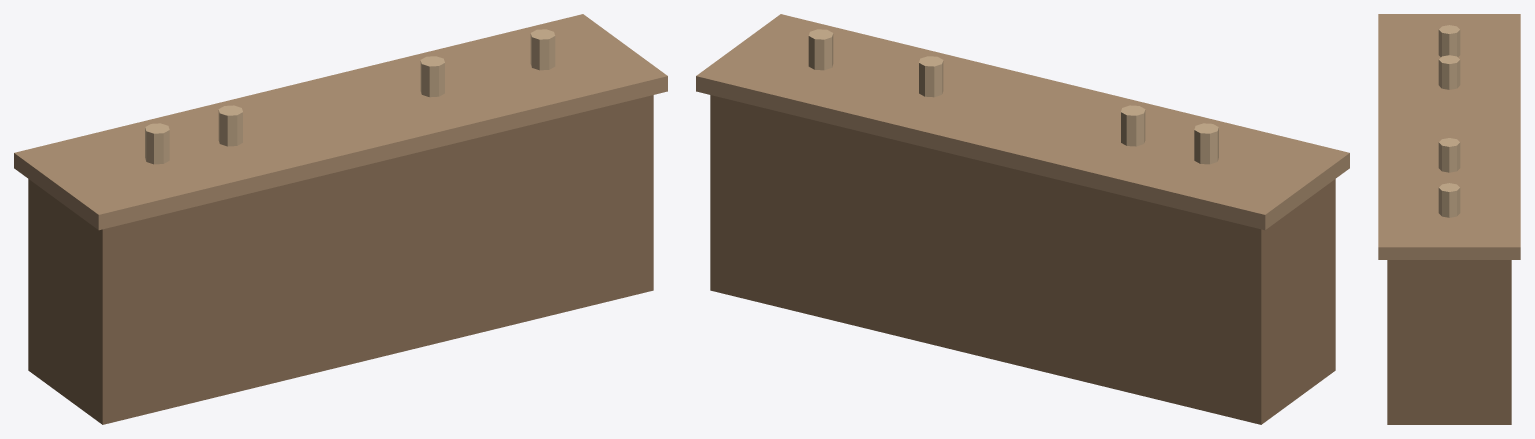
Rendered from bar_counter.glb.
3 renders of one model, left to right at view 1: azimuth 30°, elevation 25°; view 2: azimuth 150°, elevation 25°; view 3: azimuth 270°, elevation 25°, orthographic. The views are drawn at different scales.
Visible parts, largest first — view 1: bar_counter; view 2: bar_counter; view 3: bar_counter.
Boxes of the visible parts, bbox=[...] form: bar_counter: bbox=[14, 14, 667, 424]; bar_counter: bbox=[696, 14, 1349, 424]; bar_counter: bbox=[1378, 14, 1520, 424].
Size of the model in its own units: 3.1 by 1.28 by 0.8001.
